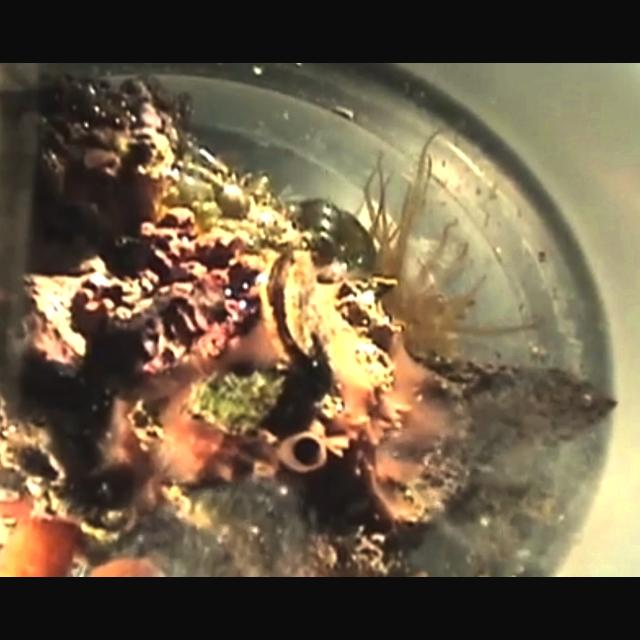Oyster-Open: (256, 244, 318, 362)
